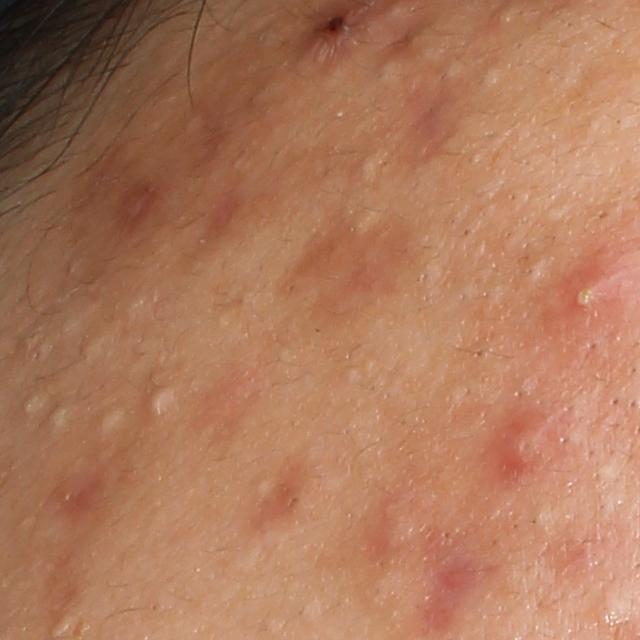comedo: (79, 330, 108, 364), (490, 4, 519, 30), (519, 257, 545, 284), (99, 408, 125, 433), (45, 404, 70, 429), (356, 157, 377, 184), (481, 66, 501, 90), (21, 394, 43, 414), (473, 346, 487, 362), (593, 210, 610, 222)
papule: (306, 10, 363, 60), (503, 425, 550, 475), (380, 499, 419, 552)
pustule: (562, 269, 612, 320)
